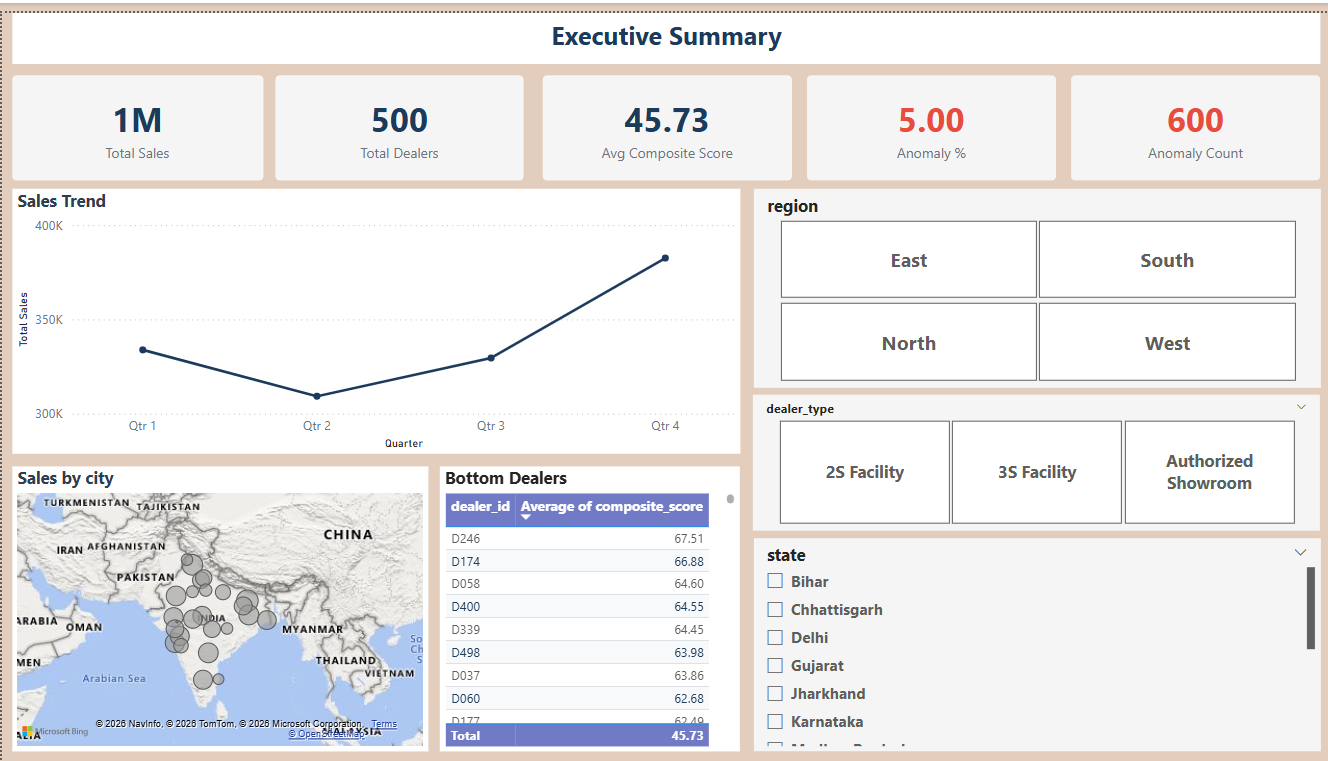

The dashboard page shown, as its layout file describes it:
{"tool":"powerbi","page":{"name":"1. Executive Summary","canvas":[1280,720],"ordinal":0},"visuals":[{"type":"card","title":"Total Sales","fields":{"Values":["dealer_kpi_with_anomalies.Total Sales"]},"box":[10.3,59.8,240.2,101.1],"z":0},{"type":"card","fields":{"Values":["dealer_kpi_with_anomalies.Anomaly %"]},"box":[773.6,59.8,240.2,101.1],"z":1000},{"type":"card","fields":{"Values":["dealer_kpi_with_anomalies.Total Dealers"]},"box":[263.2,59.8,239.1,101.1],"z":2000},{"type":"card","fields":{"Values":["dealer_kpi_with_anomalies.Avg Composite Score"]},"box":[519.5,59.8,240.2,101.1],"z":3000},{"type":"card","fields":{"Values":["dealer_kpi_with_anomalies.Anomaly Count"]},"box":[1027.6,59.8,240.2,101.1],"z":4000},{"type":"lineChart","title":"Sales Trend","fields":{"Y":["dealer_kpi_with_anomalies.Total Sales"],"Category":["DimDate.Date.Variation.Date Hierarchy.Quarter"]},"box":[10.3,169,700,255.2],"z":5000},{"type":"map","title":"Sales by city","fields":{"Category":["dealer_master.city"],"Size":["dealer_kpi_with_anomalies.Total Sales"]},"box":[10.3,435.6,400,274.7],"z":6000},{"type":"tableEx","title":"Bottom Dealers","fields":{"Values":["dealer_master.dealer_id","Avg(dealer_kpi_with_anomalies.composite_score)"]},"box":[420.7,435.6,289.7,274.7],"z":7000},{"type":"slicer","fields":{"Values":["dealer_master.region"]},"box":[722.8,168.7,545.1,191.4],"z":8000},{"type":"slicer","fields":{"Values":["dealer_master.dealer_type"]},"box":[721.9,367.3,545.1,130.6],"z":9000},{"type":"slicer","fields":{"Values":["dealer_master.state"]},"box":[722.8,505.2,545.1,205],"z":10000},{"type":"actionButton","box":[67.8,0,12.6,39.1],"z":11000},{"type":"textbox","box":[10.3,0,1257.5,49.4],"z":12000}]}

Visuals, with their boxes in screenshot pixels (x1, y1, x2, y2), scaled from the page's 1280x720 canvas onto the 1328x761 screenshot:
"Total Sales" card: x1=11 y1=63 x2=260 y2=170
card - dealer_kpi_with_anomalies.Anomaly %: x1=803 y1=63 x2=1052 y2=170
card - dealer_kpi_with_anomalies.Total Dealers: x1=273 y1=63 x2=521 y2=170
card - dealer_kpi_with_anomalies.Avg Composite Score: x1=539 y1=63 x2=788 y2=170
card - dealer_kpi_with_anomalies.Anomaly Count: x1=1066 y1=63 x2=1315 y2=170
"Sales Trend" lineChart: x1=11 y1=179 x2=737 y2=448
"Sales by city" map: x1=11 y1=460 x2=426 y2=751
"Bottom Dealers" tableEx: x1=436 y1=460 x2=737 y2=751
slicer - dealer_master.region: x1=750 y1=178 x2=1315 y2=381
slicer - dealer_master.dealer_type: x1=749 y1=388 x2=1315 y2=526
slicer - dealer_master.state: x1=750 y1=534 x2=1315 y2=751
actionButton: x1=70 y1=0 x2=83 y2=41
textbox: x1=11 y1=0 x2=1315 y2=52
